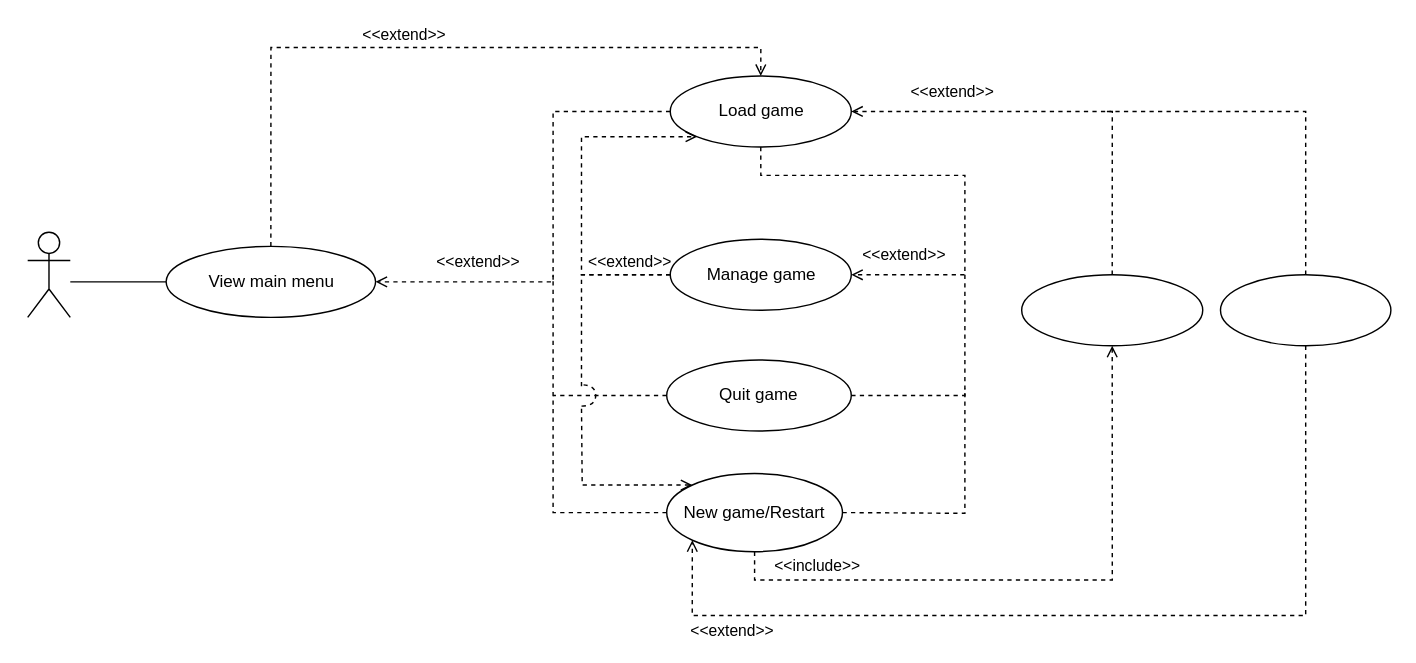
This 1416x663 diagram has some shape labels left out. Here are the shapes that lost their labels. From the top down, the centre of each, then its label:
At (x=48, y=274): "Player".
At (x=1111, y=309): "View chess board and/or game log".
At (x=1305, y=309): "Move chess".
